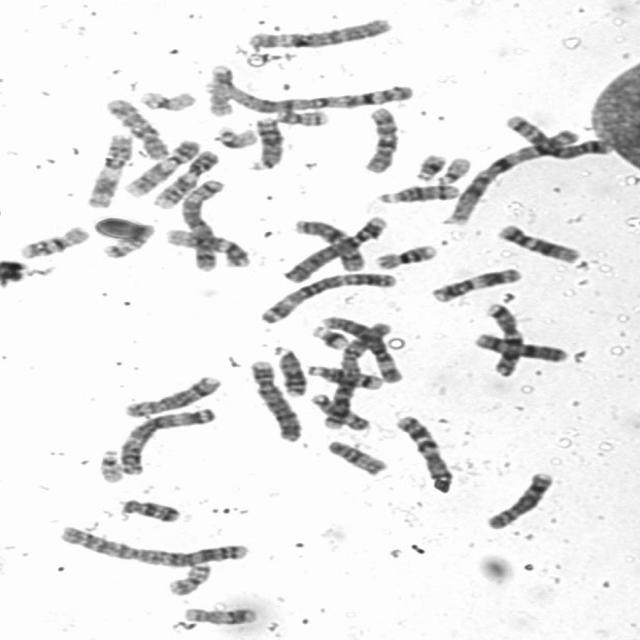A1: (439, 123, 581, 228), (204, 74, 420, 115)
A2: (54, 520, 254, 570), (315, 317, 397, 431)
A3: (255, 268, 400, 325), (113, 402, 220, 476)
B4: (280, 212, 392, 284), (246, 356, 305, 443)
B5: (499, 110, 614, 161), (178, 174, 227, 274)
C10: (101, 95, 171, 161), (359, 104, 403, 175)
C11: (81, 131, 135, 209), (426, 264, 526, 304)
C12: (160, 224, 254, 269), (493, 222, 581, 264)
C6: (318, 312, 407, 385), (244, 14, 397, 50)
C7: (391, 412, 456, 494), (480, 298, 526, 378)
C8: (480, 468, 557, 530), (118, 372, 220, 418)
C9: (121, 136, 204, 198), (148, 146, 220, 210)
D13: (243, 114, 287, 172), (269, 341, 310, 398)
D14: (303, 361, 385, 391), (371, 180, 462, 206)
D15: (305, 389, 373, 432), (322, 438, 389, 478)
E16: (14, 221, 93, 260), (369, 240, 439, 270)
E17: (179, 602, 261, 626), (205, 61, 235, 118)
E18: (98, 222, 153, 260), (114, 495, 182, 524)
F19: (134, 86, 199, 112), (212, 124, 260, 150)
F20: (163, 560, 215, 596), (271, 106, 332, 127)
G21: (307, 322, 352, 350), (410, 150, 448, 182)
G22: (432, 153, 472, 186), (96, 447, 125, 484)
X: (289, 216, 366, 272), (471, 328, 573, 364)
